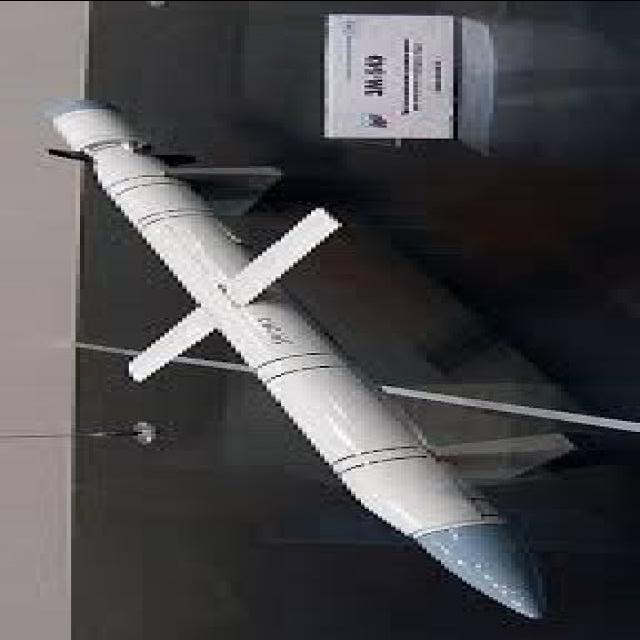Missile: (25, 56, 585, 640)
